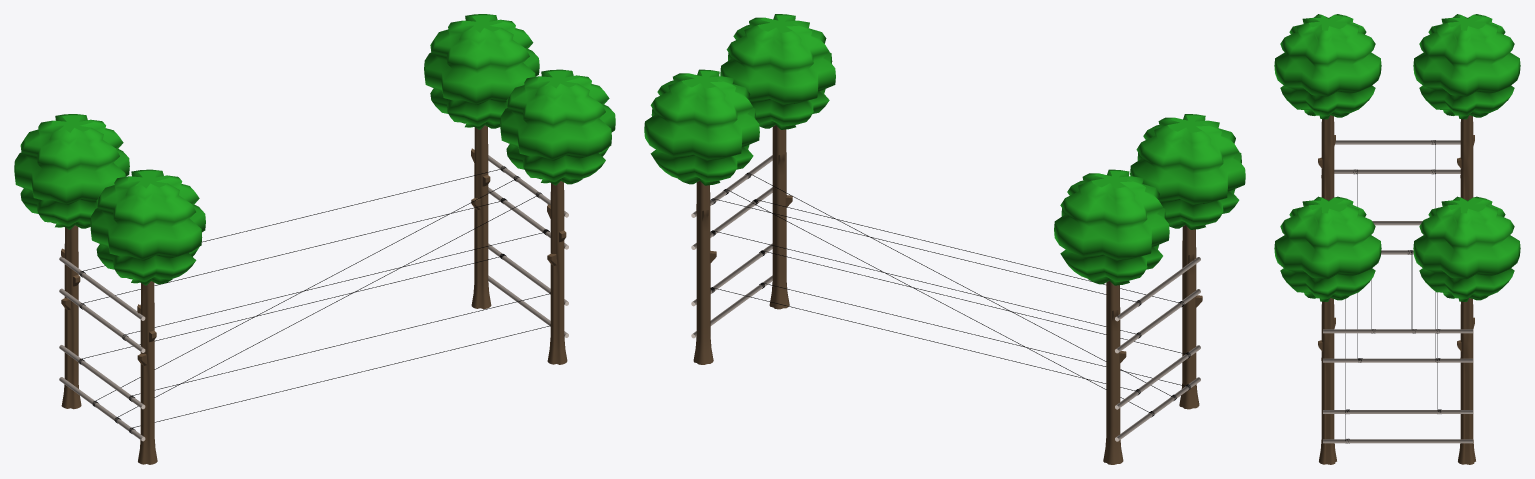
File: block.gltf
3 views of the same model, side by side, from view 1: azimuth 30°, elevation 25°; view 2: azimuth 150°, elevation 25°; view 3: azimuth 270°, elevation 25° (orthographic). The views are drawn at different scales.
Visible parts, largest first — view 1: pSphere5:PIV, pSphere2:PIV, pSphere4:PIV, pSphere3:PIV; view 2: pSphere4:PIV, pSphere3:PIV, pSphere5:PIV, pSphere2:PIV; view 3: pSphere5:PIV, pSphere4:PIV, pSphere3:PIV, pSphere2:PIV, pCylinder7, pCylinder3, pCylinder8, pCylinder6, pCylinder5, pCylinder4.
Part boxes in pixels (x1,y1,x2,y2): pSphere5:PIV: (500, 69, 615, 364); pSphere2:PIV: (90, 169, 205, 464); pSphere4:PIV: (424, 14, 539, 309); pSphere3:PIV: (14, 114, 129, 409); pSphere4:PIV: (644, 69, 759, 364); pSphere3:PIV: (1054, 169, 1169, 464); pSphere5:PIV: (720, 14, 835, 309); pSphere2:PIV: (1130, 114, 1245, 409); pSphere5:PIV: (1274, 196, 1381, 464); pSphere4:PIV: (1413, 196, 1520, 464); pSphere3:PIV: (1413, 14, 1520, 200); pSphere2:PIV: (1274, 14, 1381, 200); pCylinder7: (1323, 329, 1472, 333); pCylinder3: (1323, 439, 1472, 443); pCylinder8: (1323, 358, 1472, 362); pCylinder6: (1334, 169, 1460, 173); pCylinder5: (1335, 140, 1460, 144); pCylinder4: (1323, 410, 1472, 413).
Size of the model in its own units: 250 by 132 by 115.
